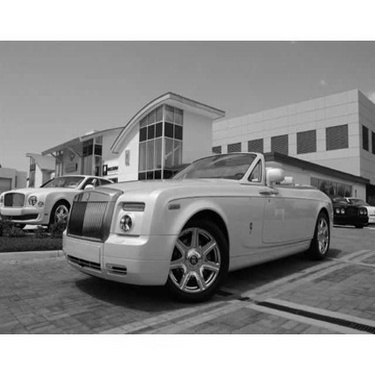car: (60, 152, 339, 299), (1, 173, 123, 238), (311, 195, 369, 227), (340, 196, 373, 229)
